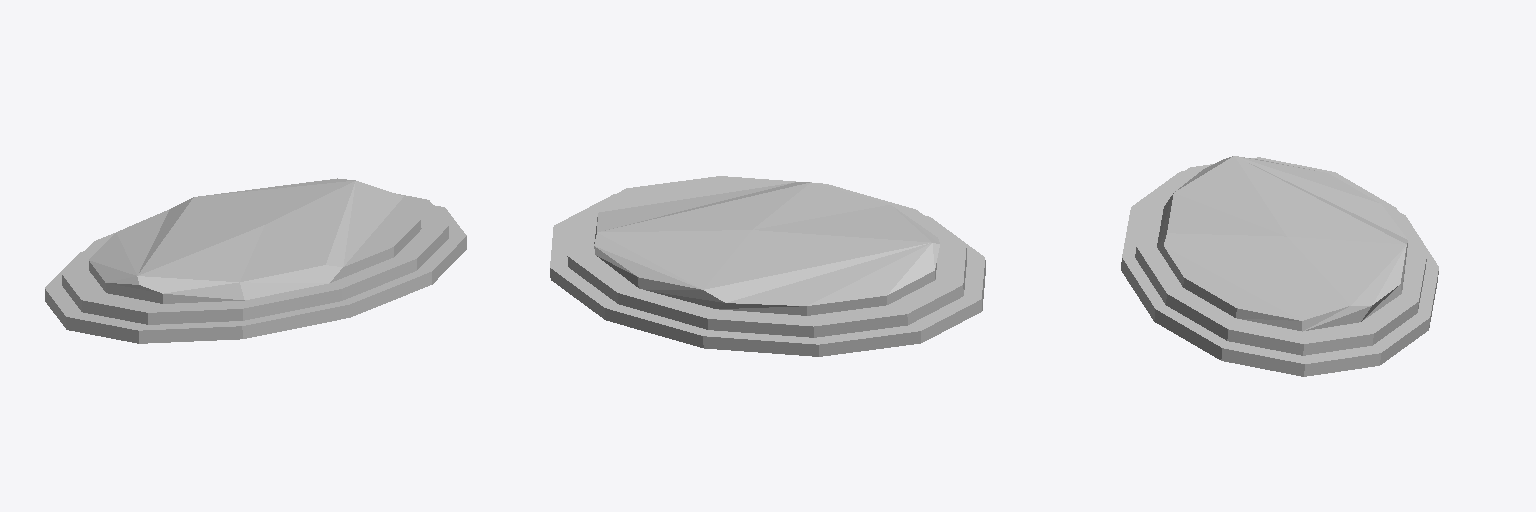
File: grass.obj
3 views of the same model, side by side, from view 1: azimuth 30°, elevation 25°; view 2: azimuth 150°, elevation 25°; view 3: azimuth 270°, elevation 25° (orthographic).
Size of the model in its own units: 0.6359 by 0.094 by 0.4344.